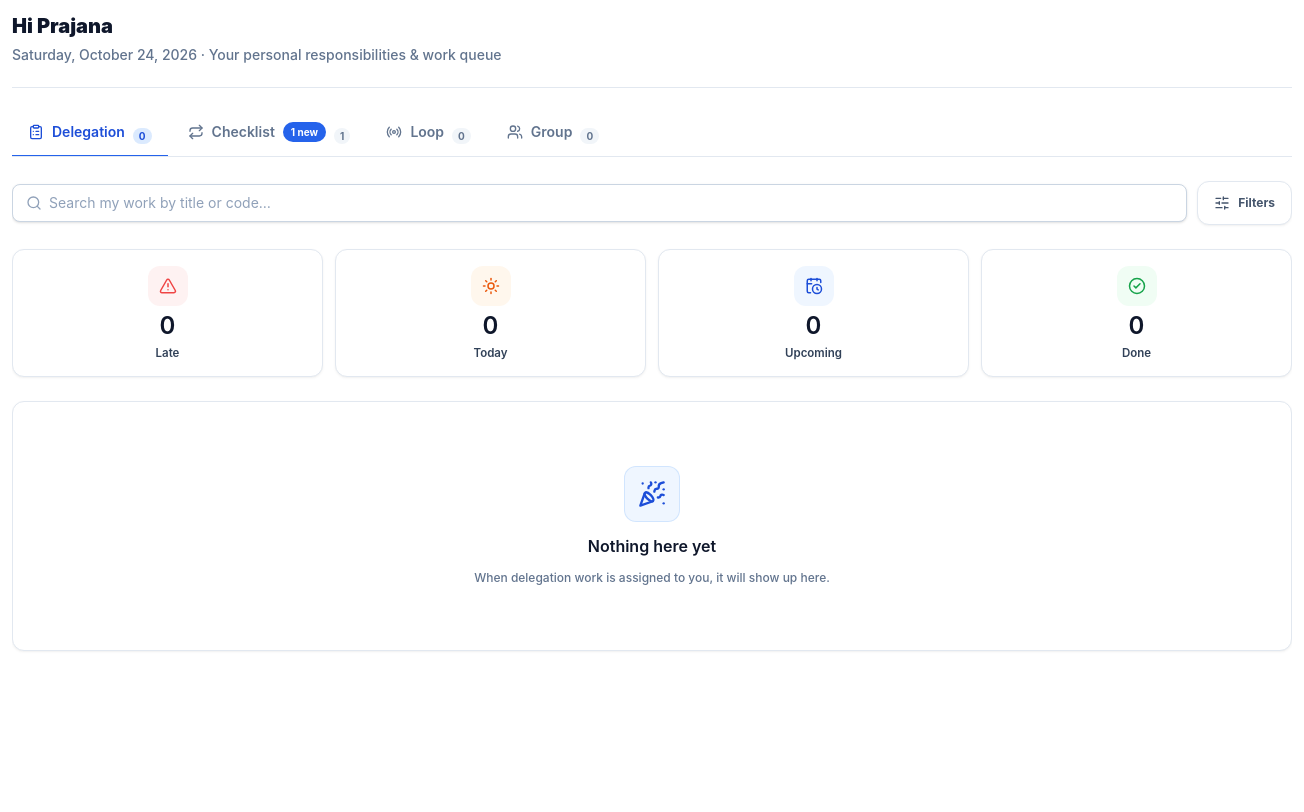
My Work — O2D tasks › a new task is tagged, and the Checklist tab says how many are new
Check: the text "1 new" is shown, box x1=283 y1=122 x2=326 y2=142
Click the tab "Checklist 1 new 1" at {"x": 269, "y": 134}, box x1=172 y1=112 x2=366 y2=157
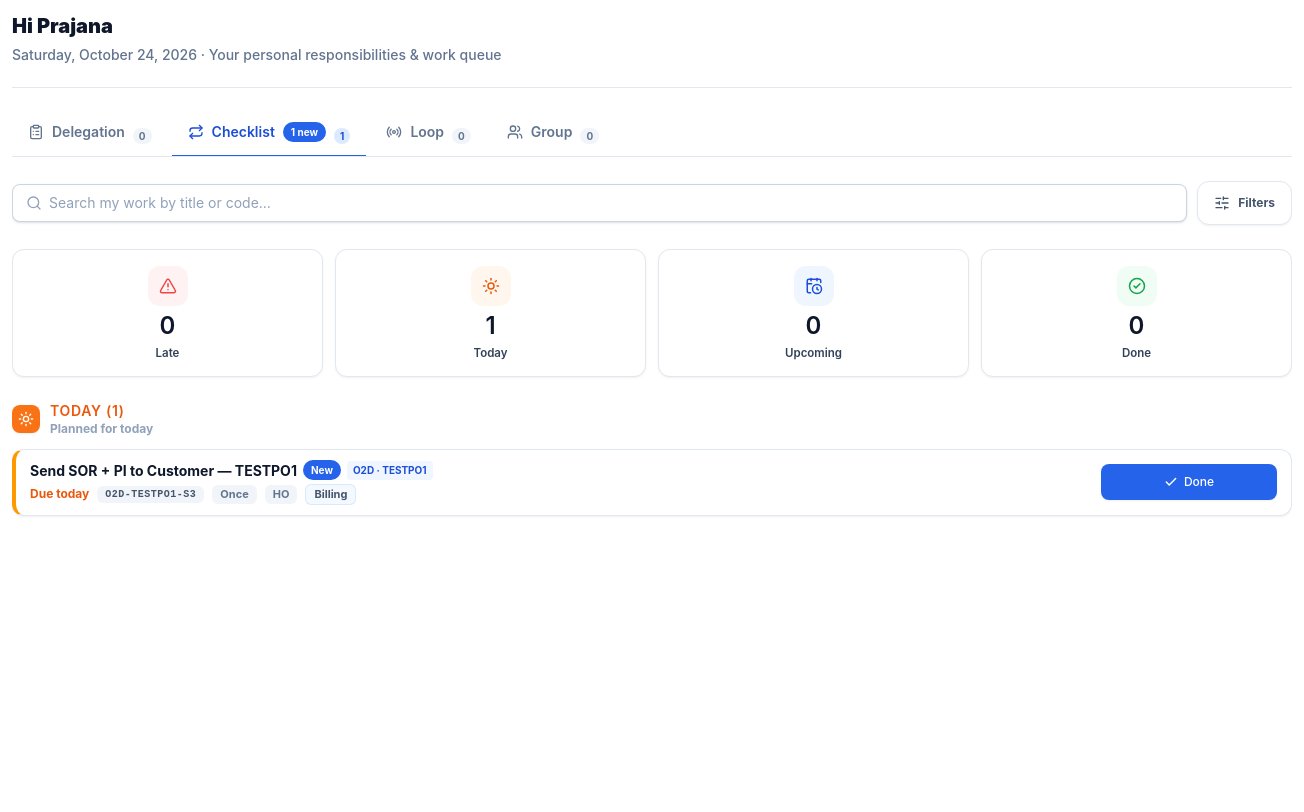
Check: the text "New" is shown, box x1=303 y1=460 x2=341 y2=480
